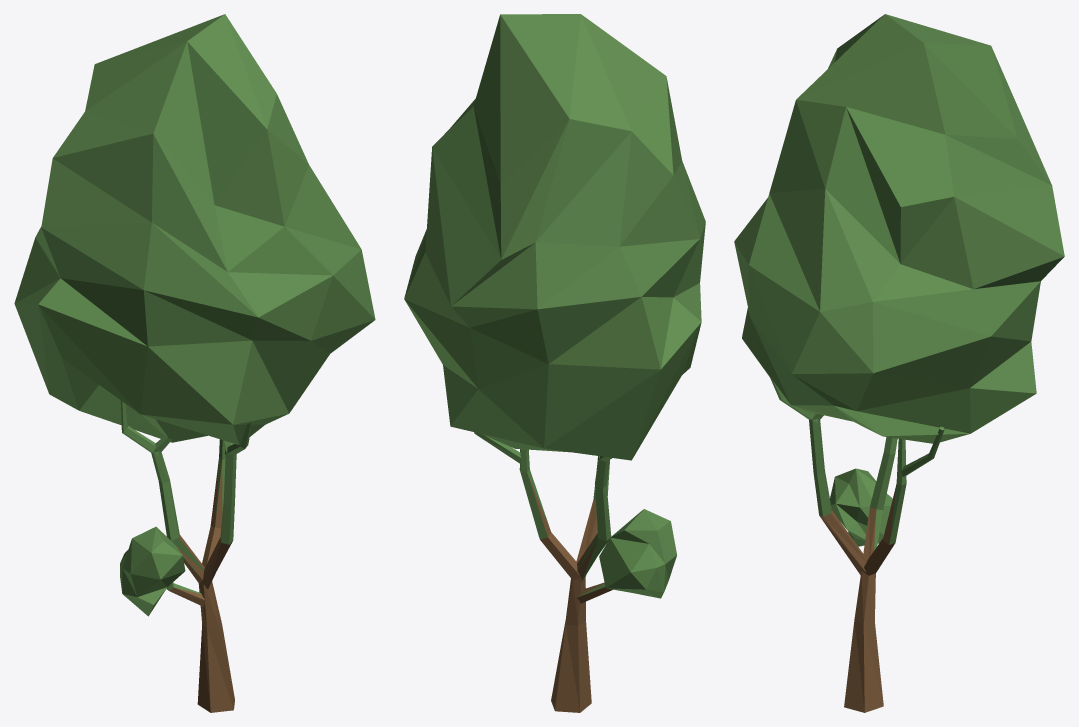
File: tree3d-148.glb
3 renders of one model, left to right at view 1: azimuth 30°, elevation 25°; view 2: azimuth 150°, elevation 25°; view 3: azimuth 270°, elevation 25°, orthographic. The views are drawn at different scales.
Parts seen in each view (by area): view 1: tree3d-148; view 2: tree3d-148; view 3: tree3d-148.
Boxes of the visible parts, left/top/right/bottom form: tree3d-148: left=14, top=14, right=375, bottom=712; tree3d-148: left=404, top=14, right=705, bottom=712; tree3d-148: left=734, top=14, right=1064, bottom=712.
Size of the model in its own units: 0.4624 by 1 by 0.4407.
